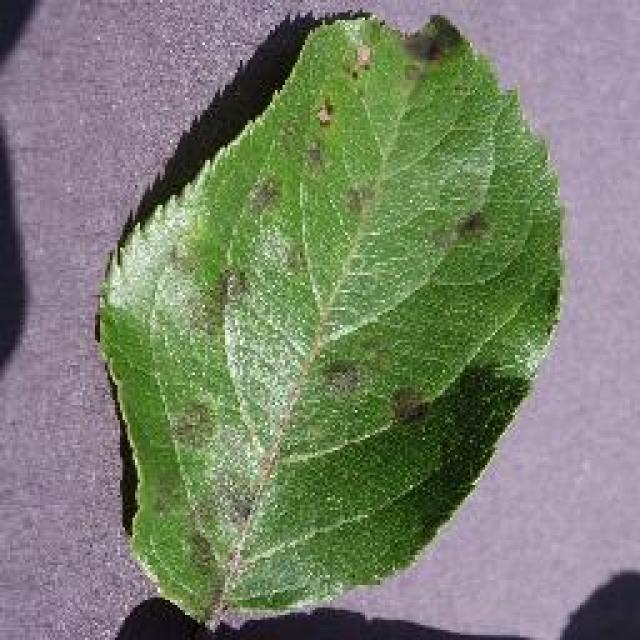apple scab disease: (93, 8, 565, 630)
